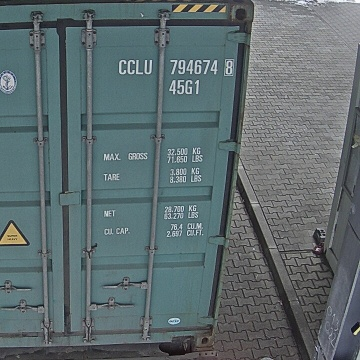serial_id: (119, 59, 233, 75)
